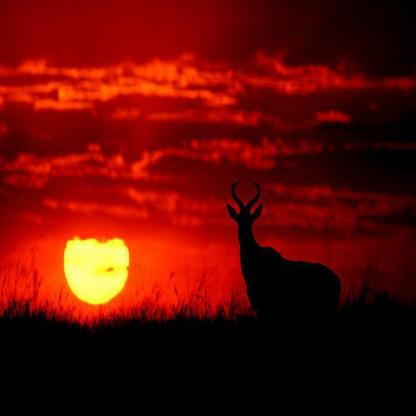other: (57, 220, 137, 306)
